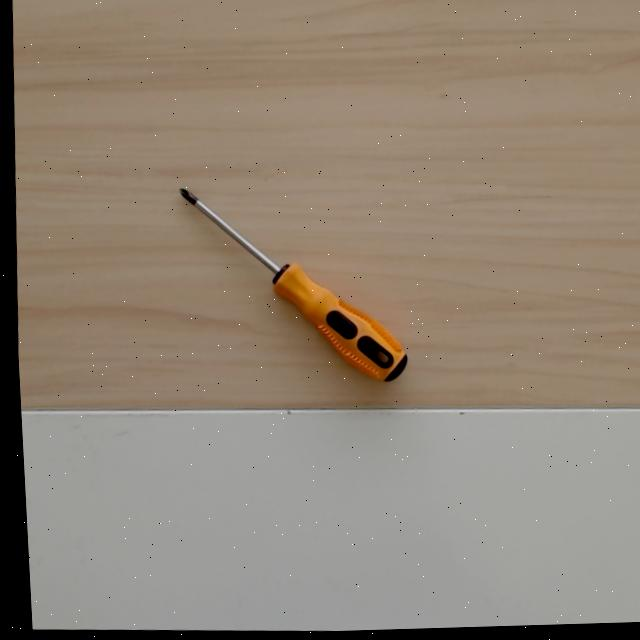Obeng-Besar: (170, 162, 415, 392)
